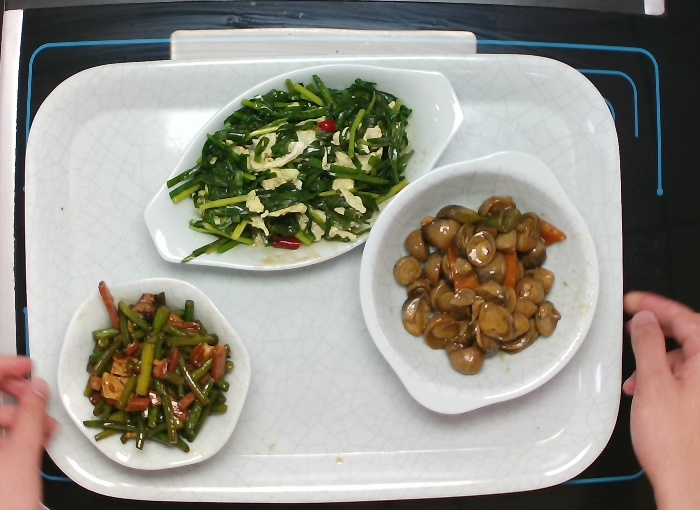JYsf-Shuang_Er_Wan: (358, 146, 603, 415)
JYsf-Yu_Pan: (142, 60, 462, 272)
WCQzf-Hua_Duo_Wan: (58, 275, 253, 471)
